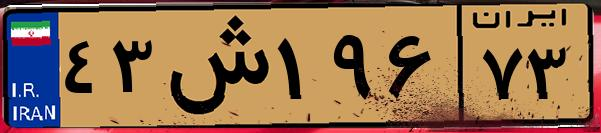1: (270, 28, 330, 110)
3: (525, 38, 570, 115), (110, 28, 158, 98)
4: (57, 26, 110, 100)
6: (385, 28, 445, 110)
7: (475, 38, 525, 113)
9: (330, 28, 385, 110)
ش: (158, 12, 270, 120)
